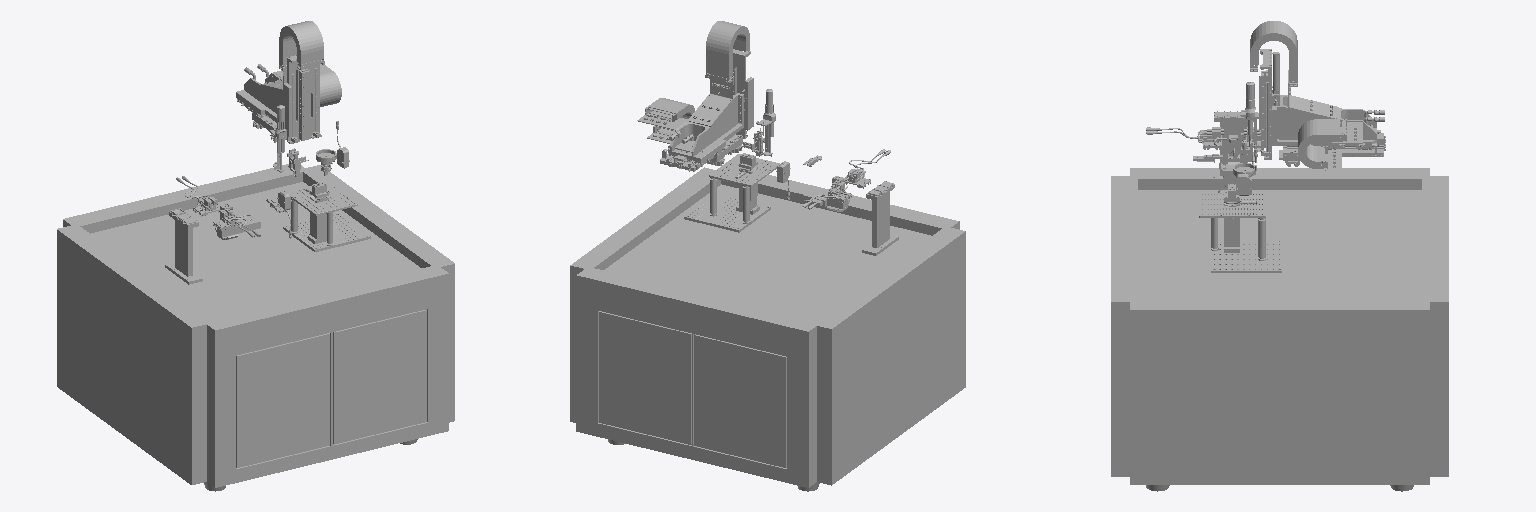
--- Render facts (derived) ---
The picture shows the robot from 3 angles, left to right: view 1: azimuth 30°, elevation 25°; view 2: azimuth 150°, elevation 25°; view 3: azimuth 270°, elevation 25°; orthographic projection.
Robot: BAUGRUPPE_PM_ROBOT_Export_22052024 — 42 links, 41 joints (5 revolute, 12 prismatic, 24 fixed); root link base_link_Empthy; default pose: all joints at 0.
Visible links, largest first — view 1: housing, Y_Axis, Gonio_Base_Right, Test_Station, Smarpod_Station, X_Axis, 2K_Dispenser_Cartridge; view 2: housing, Y_Axis, X_Axis, Gonio_Base_Right, Test_Station, Smarpod_Station, 2K_Dispenser_Cartridge; view 3: housing, Y_Axis, X_Axis, Gonio_Base_Right, Smarpod_Station, Test_Station, 2K_Dispenser_Cartridge.
Link boxes in pixels (x1,y1,x2,y2): housing: (57, 164, 454, 491); Y_Axis: (236, 21, 324, 143); Gonio_Base_Right: (284, 212, 368, 250); Test_Station: (165, 208, 202, 284); Smarpod_Station: (283, 182, 370, 251); X_Axis: (237, 64, 341, 141); 2K_Dispenser_Cartridge: (270, 105, 286, 172); housing: (570, 167, 965, 491); Y_Axis: (637, 21, 753, 163); X_Axis: (645, 98, 742, 171); Gonio_Base_Right: (685, 183, 769, 231); Test_Station: (862, 181, 898, 255); Smarpod_Station: (684, 154, 779, 232); 2K_Dispenser_Cartridge: (756, 89, 775, 156); housing: (1111, 168, 1448, 491); Y_Axis: (1250, 21, 1384, 159); X_Axis: (1279, 119, 1385, 170); Gonio_Base_Right: (1211, 218, 1281, 272); Smarpod_Station: (1199, 193, 1281, 272); Test_Station: (1208, 110, 1259, 181); 2K_Dispenser_Cartridge: (1245, 82, 1260, 154).
Bounding box of the posed robot: 1.42 × 1.42 × 2.01 m (x, y, z).
Meshes: 42 distinct files referenced, 26 mesh visuals loaded (26 binary STL); not drawn: 16 (reference not matched to a file when rendering).

The robot description file, URDF, robot "BAUGRUPPE_PM_ROBOT_Export_22052024":
<?xml version="1.0" encoding="utf-8"?>
<!-- This URDF was automatically created by SolidWorks to URDF Exporter! Originally created by Stephen Brawner ([email redacted]) 
     Commit Version: 1.6.0-1-g15f4949  Build Version: 1.6.7594.29634
     For more information, please see http://wiki.ros.org/sw_urdf_exporter -->
<robot
  name="BAUGRUPPE_PM_ROBOT_Export_22052024">
  <link
    name="base_link_Empthy">
    <inertial>
      <origin
        xyz="0.6 0.6 0.496399367652785"
        rpy="0 0 0" />
      <mass
        value="1546.94483599147" />
      <inertia
        ixx="334.148986426101"
        ixy="-4.08511129788091E-15"
        ixz="1.15841096841426E-14"
        iyy="334.316274376101"
        iyz="-1.54434441905942E-14"
        izz="513.371732356987" />
    </inertial>
    <visual>
      <origin
        xyz="0 0 0"
        rpy="0 0 0" />
      <geometry>
        <mesh
          filename="package://meshes/base_link_Empthy.STL" />
      </geometry>
      <material
        name="">
        <color
          rgba="0.752941176470588 0.752941176470588 0.752941176470588 1" />
      </material>
    </visual>
    <collision>
      <origin
        xyz="0 0 0"
        rpy="0 0 0" />
      <geometry>
        <mesh
          filename="package://meshes/base_link_Empthy.STL" />
      </geometry>
    </collision>
  </link>
  <link
    name="pm_robot_base_link">
    <inertial>
      <origin
        xyz="0.600186355261373 0.60024822812755 -0.0500803495201262"
        rpy="0 0 0" />
      <mass
        value="143.433412382625" />
      <inertia
        ixx="17.331308476166"
        ixy="-0.000173857700061694"
        ixz="-0.000103303605770371"
        iyy="17.3263788236509"
        iyz="-0.00227792943650154"
        izz="34.418988396052" />
    </inertial>
    <visual>
      <origin
        xyz="0 0 0"
        rpy="0 0 0" />
      <geometry>
        <mesh
          filename="package://meshes/pm_robot_base_link.STL" />
      </geometry>
      <material
        name="">
        <color
          rgba="1 1 1 1" />
      </material>
    </visual>
    <collision>
      <origin
        xyz="0 0 0"
        rpy="0 0 0" />
      <geometry>
        <mesh
          filename="package://meshes/pm_robot_base_link.STL" />
      </geometry>
    </collision>
  </link>
  <joint
    name="pm_robot_base_link_joint"
    type="fixed">
    <origin
      xyz="0 0 0.971"
      rpy="0 0 0" />
    <parent
      link="base_link_Empthy" />
    <child
      link="pm_robot_base_link" />
    <axis
      xyz="0 0 0" />
  </joint>
  <link
    name="Test_Station">
    <inertial>
      <origin
        xyz="0.0250000000000002 0.0791274046351472 -0.154851137332961"
        rpy="0 0 0" />
      <mass
        value="1.39099524679326" />
      <inertia
        ixx="0.00780193904512035"
        ixy="-2.61716562579906E-14"
        ixz="-5.0582055952635E-20"
        iyy="0.00547600691976027"
        iyz="9.87499782606784E-10"
        izz="0.00281708795214926" />
    </inertial>
    <visual>
      <origin
        xyz="0 0 0"
        rpy="0 0 0" />
      <geometry>
        <mesh
          filename="package://meshes/Test_Station.STL" />
      </geometry>
      <material
        name="">
        <color
          rgba="0.752941176470588 0.752941176470588 0.752941176470588 1" />
      </material>
    </visual>
    <collision>
      <origin
        xyz="0 0 0"
        rpy="0 0 0" />
      <geometry>
        <mesh
          filename="package://meshes/Test_Station.STL" />
      </geometry>
    </collision>
  </link>
  <joint
    name="Test_Station_Joint"
    type="fixed">
    <origin
      xyz="0.0750000000000028 0.326504999999999 0.298"
      rpy="0 0 0" />
    <parent
      link="pm_robot_base_link" />
    <child
      link="Test_Station" />
    <axis
      xyz="0 0 0" />
  </joint>
  <link
    name="axis_base">
    <inertial>
      <origin
        xyz="0.396214619486537 0.105202066908917 0.307911806876713"
        rpy="0 0 0" />
      <mass
        value="43.6114043093315" />
      <inertia
        ixx="0.364953980200803"
        ixy="-0.000379115704670562"
        ixz="0.00337088428559591"
        iyy="2.29090660447954"
        iyz="0.000705386918357222"
        izz="2.23412206059981" />
    </inertial>
    <visual>
      <origin
        xyz="0 0 0"
        rpy="0 0 0" />
      <geometry>
        <mesh
          filename="package://meshes/axis_base.STL" />
      </geometry>
      <material
        name="">
        <color
          rgba="0.752941176470588 0.752941176470588 0.752941176470588 1" />
      </material>
    </visual>
    <collision>
      <origin
        xyz="0 0 0"
        rpy="0 0 0" />
      <geometry>
        <mesh
          filename="package://meshes/axis_base.STL" />
      </geometry>
    </collision>
  </link>
  <joint
    name="axis_base_joint"
    type="fixed">
    <origin
      xyz="0.08001 0.632 1.000000000001E-05"
      rpy="0 0 0" />
    <parent
      link="pm_robot_base_link" />
    <child
      link="axis_base" />
    <axis
      xyz="0 0 0" />
  </joint>
  <link
    name="X_Axis">
    <inertial>
      <origin
        xyz="0.119923251131808 0.0439594768571969 0.0277110106733242"
        rpy="0 0 0" />
      <mass
        value="11.0253018809426" />
      <inertia
        ixx="0.0864564443546383"
        ixy="-0.00201586475426314"
        ixz="-1.7718229513995E-05"
        iyy="0.024186781341012"
        iyz="-0.000558208245719287"
        izz="0.107108379954593" />
    </inertial>
    <visual>
      <origin
        xyz="0 0 0"
        rpy="0 0 0" />
      <geometry>
        <mesh
          filename="package://meshes/X_Axis.STL" />
      </geometry>
      <material
        name="">
        <color
          rgba="0.752941176470588 0.752941176470588 0.752941176470588 1" />
      </material>
    </visual>
    <collision>
      <origin
        xyz="0 0 0"
        rpy="0 0 0" />
      <geometry>
        <mesh
          filename="package://meshes/X_Axis.STL" />
      </geometry>
    </collision>
  </link>
  <joint
    name="X_Axis_Joint"
    type="prismatic">
    <origin
      xyz="0.646989999999999 0.11775 0.47499"
      rpy="0 0 0" />
    <parent
      link="axis_base" />
    <child
      link="X_Axis" />
    <axis
      xyz="1 0 0" />
    <limit
      lower="0"
      upper="0"
      effort="0"
      velocity="0" />
  </joint>
  <link
    name="Y_Axis">
    <inertial>
      <origin
        xyz="-0.00328476376224018 -0.314759192524917 0.0892329368097425"
        rpy="0 0 0" />
      <mass
        value="17.7005522203093" />
      <inertia
        ixx="0.213023496908866"
        ixy="-3.19712163262089E-05"
        ixz="-0.000439520785336106"
        iyy="0.117071846421266"
        iyz="0.0182349873316842"
        izz="0.158296683816451" />
    </inertial>
    <visual>
      <origin
        xyz="0 0 0"
        rpy="0 0 0" />
      <geometry>
        <mesh
          filename="package://meshes/Y_Axis.STL" />
      </geometry>
      <material
        name="">
        <color
          rgba="0.752941176470588 0.752941176470588 0.752941176470588 1" />
      </material>
    </visual>
    <collision>
      <origin
        xyz="0 0 0"
        rpy="0 0 0" />
      <geometry>
        <mesh
          filename="package://meshes/Y_Axis.STL" />
      </geometry>
    </collision>
  </link>
  <joint
    name="Y_Axis_Joint"
    type="prismatic">
    <origin
      xyz="0.108649999999999 0.25835 0.0652500000000019"
      rpy="0 0 0" />
    <parent
      link="X_Axis" />
    <child
      link="Y_Axis" />
    <axis
      xyz="0 1 0" />
    <limit
      lower="0"
      upper="0"
      effort="0"
      velocity="0" />
  </joint>
  <link
    name="Z_Axis">
    <inertial>
      <origin
        xyz="0.00419028515411224 -0.00127922136513592 -0.265294431377288"
        rpy="0 0 0" />
      <mass
        value="7.68339210626808" />
      <inertia
        ixx="0.046084126807637"
        ixy="-3.90611787904411E-05"
        ixz="-0.000616281374834901"
        iyy="0.0595450411402109"
        iyz="-0.000225506002045346"
        izz="0.0163501292652828" />
    </inertial>
    <visual>
      <origin
        xyz="0 0 0"
        rpy="0 0 0" />
      <geometry>
        <mesh
          filename="package://meshes/Z_Axis.STL" />
      </geometry>
      <material
        name="">
        <color
          rgba="0.752941176470588 0.752941176470588 0.752941176470588 1" />
      </material>
    </visual>
    <collision>
      <origin
        xyz="0 0 0"
        rpy="0 0 0" />
      <geometry>
        <mesh
          filename="package://meshes/Z_Axis.STL" />
      </geometry>
    </collision>
  </link>
  <joint
    name="Z_Axis_Joint"
    type="prismatic">
    <origin
      xyz="-0.00364999999999993 -0.499 0.280250000000002"
      rpy="0 0 0" />
    <parent
      link="Y_Axis" />
    <child
      link="Z_Axis" />
    <axis
      xyz="0 0 -1" />
    <limit
      lower="0"
      upper="0"
      effort="0"
      velocity="0" />
  </joint>
  <link
    name="Gripper_Rot_Plate">
    <inertial>
      <origin
        xyz="-1.74281094778017E-07 2.03483659866333E-07 0.00907792340584196"
        rpy="0 0 0" />
      <mass
        value="0.110297257842221" />
      <inertia
        ixx="8.79759467929713E-05"
        ixy="1.906512099598E-10"
        ixz="1.25536613313172E-10"
        iyy="8.79764882626529E-05"
        iyz="-1.50065581916689E-10"
        izz="0.000165659870326762" />
    </inertial>
    <visual>
      <origin
        xyz="0 0 0"
        rpy="0 0 0" />
      <geometry>
        <mesh
          filename="package://meshes/Gripper_Rot_Plate.STL" />
      </geometry>
      <material
        name="">
        <color
          rgba="0.752941176470588 0.752941176470588 0.752941176470588 1" />
      </material>
    </visual>
    <collision>
      <origin
        xyz="0 0 0"
        rpy="0 0 0" />
      <geometry>
        <mesh
          filename="package://meshes/Gripper_Rot_Plate.STL" />
      </geometry>
    </collision>
  </link>
  <joint
    name="Gripper_Rot_Plate_Joint"
    type="revolute">
    <origin
      xyz="0.0600000000000008 -0.0579999999999999 -0.427500000000002"
      rpy="0 0 0" />
    <parent
      link="Z_Axis" />
    <child
      link="Gripper_Rot_Plate" />
    <axis
      xyz="0 0 1" />
    <limit
      lower="0"
      upper="0"
      effort="0"
      velocity="0" />
  </joint>
  <link
    name="t_axis_tool">
    <inertial>
      <origin
        xyz="7.72851316210854E-06 8.27901917614948E-05 -0.0298996352002383"
        rpy="0 0 0" />
      <mass
        value="0.118189852587645" />
      <inertia
        ixx="1.8760185808887E-05"
        ixy="-4.54748032729686E-08"
        ixz="6.00877448975306E-10"
        iyy="1.57422730580701E-05"
        iyz="2.35117594845364E-09"
        izz="3.18334116837837E-05" />
    </inertial>
    <visual>
      <origin
        xyz="0 0 0"
        rpy="0 0 0" />
      <geometry>
        <mesh
          filename="package://meshes/t_axis_tool.STL" />
      </geometry>
      <material
        name="">
        <color
          rgba="0.752941176470588 0.752941176470588 0.752941176470588 1" />
      </material>
    </visual>
    <collision>
      <origin
        xyz="0 0 0"
        rpy="0 0 0" />
      <geometry>
        <mesh
          filename="package://meshes/t_axis_tool.STL" />
      </geometry>
    </collision>
  </link>
  <joint
    name="t_axis_tool_base"
    type="fixed">
    <origin
      xyz="0 0 0"
      rpy="0 0 0" />
    <parent
      link="Gripper_Rot_Plate" />
    <child
      link="t_axis_tool" />
    <axis
      xyz="0 0 0" />
  </joint>
  <link
    name="tool_TCP_joint">
    <inertial>
      <origin
        xyz="7.72851316810375E-06 -8.27901917496154E-05 -0.0155203647997646"
        rpy="0 0 0" />
      <mass
        value="0.118189852587645" />
      <inertia
        ixx="1.8760185808887E-05"
        ixy="4.54748032729685E-08"
        ixz="-6.00877448975292E-10"
        iyy="1.57422730580701E-05"
        iyz="2.35117594845366E-09"
        izz="3.18334116837837E-05" />
    </inertial>
    <visual>
      <origin
        xyz="0 0 0"
        rpy="0 0 0" />
      <geometry>
        <mesh
          filename="package://meshes/tool_TCP_joint.STL" />
      </geometry>
      <material
        name="">
        <color
          rgba="0.752941176470588 0.752941176470588 0.752941176470588 1" />
      </material>
    </visual>
    <collision>
      <origin
        xyz="0 0 0"
        rpy="0 0 0" />
      <geometry>
        <mesh
          filename="package://meshes/tool_TCP_joint.STL" />
      </geometry>
    </collision>
  </link>
  <joint
    name="tool_TCP_joint"
    type="fixed">
    <origin
      xyz="0 0 -0.0454200000000029"
      rpy="3.14159265358979 0 0" />
    <parent
      link="Gripper_Rot_Plate" />
    <child
      link="tool_TCP_joint" />
    <axis
      xyz="0 0 0" />
  </joint>
  <link
    name="1K_Dispenser_Flap">
    <inertial>
      <origin
        xyz="-0.0528803854403627 -0.0205102449592098 -0.0129354600947458"
        rpy="0 0 0" />
      <mass
        value="0.0898950727177874" />
      <inertia
        ixx="2.95064519140259E-05"
        ixy="4.21874099690977E-07"
        ixz="1.87928470948077E-07"
        iyy="2.60445367838748E-05"
        iyz="7.76714372906351E-08"
        izz="2.00651851070914E-05" />
    </inertial>
    <visual>
      <origin
        xyz="0 0 0"
        rpy="0 0 0" />
      <geometry>
        <mesh
          filename="package://meshes/1K_Dispenser_Flap.STL" />
      </geometry>
      <material
        name="">
        <color
          rgba="0.752941176470588 0.752941176470588 0.752941176470588 1" />
      </material>
    </visual>
    <collision>
      <origin
        xyz="0 0 0"
        rpy="0 0 0" />
      <geometry>
        <mesh
          filename="package://meshes/1K_Dispenser_Flap.STL" />
      </geometry>
    </collision>
  </link>
  <joint
    name="1K_Dispenser_Flap_Joint"
    type="prismatic">
    <origin
      xyz="-0.0315000000000003 -0.02479 -0.424"
      rpy="0 0 0" />
    <parent
      link="Z_Axis" />
    <child
      link="1K_Dispenser_Flap" />
    <axis
      xyz="-1 0 0" />
    <limit
      lower="0"
      upper="0"
      effort="0"
      velocity="0" />
  </joint>
  <link
    name="1K_Dispenser">
    <inertial>
      <origin
        xyz="-0.00291818033157643 -0.0158334552810113 -0.0484880242877683"
        rpy="0 0 0" />
      <mass
        value="0.0738617158315613" />
      <inertia
        ixx="3.4329278732223E-05"
        ixy="-1.91909053103246E-07"
        ixz="-5.62660751837308E-08"
        iyy="3.40932388763581E-05"
        iyz="5.66364368564949E-07"
        izz="1.14889763852285E-05" />
    </inertial>
    <visual>
      <origin
        xyz="0 0 0"
        rpy="0 0 0" />
      <geometry>
        <mesh
          filename="package://meshes/1K_Dispenser.STL" />
      </geometry>
      <material
        name="">
        <color
          rgba="0.752941176470588 0.752941176470588 0.752941176470588 1" />
      </material>
    </visual>
    <collision>
      <origin
        xyz="0 0 0"
        rpy="0 0 0" />
      <geometry>
        <mesh
          filename="package://meshes/1K_Dispenser.STL" />
      </geometry>
    </collision>
  </link>
  <joint
    name="1K_Dispenser_Joint"
    type="prismatic">
    <origin
      xyz="-0.104000000000004 -0.0261999999999946 -0.354500000000001"
      rpy="0 0 0" />
    <parent
      link="Z_Axis" />
    <child
      link="1K_Dispenser" />
    <axis
      xyz="0 0 1" />
    <limit
      lower="0"
      upper="0"
      effort="0"
      velocity="0" />
  </joint>
  <link
    name="2K_Dispenser_Cartridge">
    <inertial>
      <origin
        xyz="0.000283820034037041 -0.0359476128067617 0.155394274852362"
        rpy="0 0 0" />
      <mass
        value="0.414568311761336" />
      <inertia
        ixx="0.00156211922888725"
        ixy="-4.41612447012715E-06"
        ixz="-9.93222982119926E-08"
        iyy="0.00154774025733087"
        iyz="-1.49654417442964E-06"
        izz="0.000122629937957289" />
    </inertial>
    <visual>
      <origin
        xyz="0 0 0"
        rpy="0 0 0" />
      <geometry>
        <mesh
          filename="package://meshes/2K_Dispenser_Cartridge.STL" />
      </geometry>
      <material
        name="">
        <color
          rgba="0.752941176470588 0.752941176470588 0.752941176470588 1" />
      </material>
    </visual>
    <collision>
      <origin
        xyz="0 0 0"
        rpy="0 0 0" />
      <geometry>
        <mesh
          filename="package://meshes/2K_Dispenser_Cartridge.STL" />
      </geometry>
    </collision>
  </link>
  <joint
    name="2K_Dispenser_Cartridge_Joint"
    type="prismatic">
    <origin
      xyz="-0.168999999999997 0.0117599999999983 -0.424000000000003"
      rpy="0 0 0" />
    <parent
      link="Z_Axis" />
    <child
      link="2K_Dispenser_Cartridge" />
    <axis
      xyz="0 0 -1" />
    <limit
      lower="0"
      upper="0"
      effort="0"
      velocity="0" />
  </joint>
  <link
    name="Laser_Kopf_TCP">
    <inertial>
      <origin
        xyz="0.00143426339843722 0.014826109459576 0.0588947661972293"
        rpy="0 0 0" />
      <mass
        value="0.187317990001587" />
      <inertia
        ixx="0.000183845185505213"
        ixy="5.39428415612598E-09"
        ixz="-6.26322613121407E-07"
        iyy="0.000137322203175864"
        iyz="6.13086484550094E-07"
        izz="7.68745593927865E-05" />
    </inertial>
    <visual>
      <origin
        xyz="0 0 0"
        rpy="0 0 0" />
      <geometry>
        <mesh
          filename="package://meshes/Laser_Kopf_TCP.STL" />
      </geometry>
      <material
        name="">
        <color
          rgba="0.752941176470588 0.752941176470588 0.752941176470588 1" />
      </material>
    </visual>
    <collision>
      <origin
        xyz="0 0 0"
        rpy="0 0 0" />
      <geometry>
        <mesh
          filename="package://meshes/Laser_Kopf_TCP.STL" />
      </geometry>
    </collision>
  </link>
  <joint
    name="Laser_Kopf_TCP_Joint"
    type="fixed">
    <origin
      xyz="0.147498952947694 -0.0739999732334102 -0.495500146516092"
      rpy="0 0 0" />
    <parent
      link="Z_Axis" />
    <child
      link="Laser_Kopf_TCP" />
    <axis
      xyz="0 0 0" />
  </joint>
  <link
    name="Cam1_Toolhead_TCP">
    <inertial>
      <origin
        xyz="0.0010681009671808 0.00806463599803703 0.233176385306992"
        rpy="0 0 0" />
      <mass
        value="0.855340814833738" />
      <inertia
        ixx="0.000689729297015143"
        ixy="-6.9216873287427E-07"
        ixz="-7.74089441891755E-06"
        iyy="0.000703163751646939"
        iyz="-2.35794408753471E-05"
        izz="0.00015399209635262" />
    </inertial>
    <visual>
      <origin
        xyz="0 0 0"
        rpy="0 0 0" />
      <geometry>
        <mesh
          filename="package://meshes/Cam1_Toolhead_TCP.STL" />
      </geometry>
      <material
        name="">
        <color
          rgba="0.752941176470588 0.752941176470588 0.752941176470588 1" />
      </material>
    </visual>
    <collision>
      <origin
        xyz="0 0 0"
        rpy="0 0 0" />
      <geometry>
        <mesh
          filename="package://meshes/Cam1_Toolhead_TCP.STL" />
      </geometry>
    </collision>
  </link>
  <joint
    name="Cam1_Toolhead_TCP_Joint"
    type="fixed">
    <origin
      xyz="-0.0320000000000011 -0.0579999999999999 -0.55688529255067"
      rpy="0 0 0" />
    <parent
      link="Z_Axis" />
    <child
      link="Cam1_Toolhead_TCP" />
    <axis
      xyz="0 0 0" />
  </joint>
  <link
    name="Gonio_Base_Right">
    <inertial>
      <origin
        xyz="0.0750000000000002 0.0875000000000001 0.0967750321735945"
        rpy="0 0 0" />
      <mass
        value="0.735149712395275" />
      <inertia
        ixx="0.00216092025189497"
        ixy="-3.65463885116912E-20"
        ixz="-4.81903243284364E-19"
        iyy="0.00218184071743384"
        iyz="5.00814909270512E-20"
        izz="0.000537834506363752" />
    </inertial>
    <visual>
      <origin
        xyz="0 0 0"
        rpy="0 0 0" />
      <geometry>
        <mesh
          filename="package://meshes/Gonio_Base_Right.STL" />
      </geometry>
      <material
        name="">
        <color
          rgba="0.752941176470588 0.752941176470588 0.752941176470588 1" />
      </material>
    </visual>
    <collision>
      <origin
        xyz="0 0 0"
        rpy="0 0 0" />
      <geometry>
        <mesh
          filename="package://meshes/Gonio_Base_Right.STL" />
      </geometry>
    </collision>
  </link>
  <joint
    name="Gonio_Base_Right_joint"
    type="fixed">
    <origin
      xyz="0.750000000000003 0.31 0"
      rpy="0 0 0" />
    <parent
      link="pm_robot_base_link" />
    <child
      link="Gonio_Base_Right" />
    <axis
      xyz="0 0 0" />
  </joint>
  <link
    name="Gonio_Right_Stage_1">
    <inertial>
      <origin
        xyz="0.0473956245440273 0.0326775285629692 0.00802879322662531"
        rpy="0 0 0" />
      <mass
        value="0.0706349432835732" />
      <inertia
        ixx="1.8004068123271E-05"
        ixy="7.72258833099301E-11"
        ixz="1.39266767162876E-07"
        iyy="3.36962706733938E-05"
        iyz="-1.91981813997517E-11"
        izz="4.86217530226206E-05" />
    </inertial>
    <visual>
      <origin
        xyz="0 0 0"
        rpy="0 0 0" />
      <geometry>
        <mesh
          filename="package://meshes/Gonio_Right_Stage_1.STL" />
      </geometry>
      <material
        name="">
        <color
          rgba="0.752941176470588 0.752941176470588 0.752941176470588 1" />
      </material>
    </visual>
    <collision>
      <origin
        xyz="0 0 0"
        rpy="0 0 0" />
      <geometry>
        <mesh
          filename="package://meshes/Gonio_Right_Stage_1.STL" />
      </geometry>
    </collision>
  </link>
  <joint
    name="Gonio_Right_Stage_1_Joint"
    type="fixed">
    <origin
      xyz="0.0425000000000001 0.055 0.1847"
      rpy="0 0 0" />
    <parent
      link="Gonio_Base_Right" />
    <child
      link="Gonio_Right_Stage_1" />
    <axis
      xyz="0 0 0" />
  </joint>
  <link
    name="Gonio_Right_Stage_1_Upper">
    <inertial>
      <origin
        xyz="-1.23867349488549E-07 0.00776563461425855 -0.0788347959618215"
        rpy="0 0 0" />
      <mass
        value="0.135485828183631" />
      <inertia
        ixx="6.29207513367842E-05"
        ixy="-8.2016542866997E-11"
        ixz="3.32779841698557E-11"
        iyy="4.16210408086872E-05"
        iyz="1.10769519244758E-07"
        izz="9.7190851412307E-05" />
    </inertial>
    <visual>
      <origin
        xyz="0 0 0"
        rpy="0 0 0" />
      <geometry>
        <mesh
          filename="package://meshes/Gonio_Right_Stage_1_Upper.STL" />
      </geometry>
      <material
        name="">
        <color
          rgba="0.752941176470588 0.752941176470588 0.752941176470588 1" />
      </material>
    </visual>
    <collision>
      <origin
        xyz="0 0 0"
        rpy="0 0 0" />
      <geometry>
        <mesh
          filename="package://meshes/Gonio_Right_Stage_1_Upper.STL" />
      </geometry>
    </collision>
  </link>
  <joint
    name="Gonio_Right_Stage_1_Upper_Joint"
    type="revolute">
    <origin
      xyz="0.0324999999999993 0.0326774999999999 0.11"
      rpy="0 0 0" />
    <parent
      link="Gonio_Right_Stage_1" />
    <child
      link="Gonio_Right_Stage_1_Upper" />
    <axis
      xyz="0 -1 0" />
    <limit
      lower="0"
      upper="0"
      effort="0"
      velocity="0" />
  </joint>
  <link
    name="Gonio_Right_Stage_2_Upper">
    <inertial>
      <origin
        xyz="8.11599898398185E-10 -7.70700947505532E-10 -0.0578599597513433"
        rpy="0 0 0" />
      <mass
        value="0.0546397543064688" />
      <inertia
        ixx="1.83573872586574E-05"
        ixy="1.02198811419138E-11"
        ixz="3.0349862411117E-13"
        iyy="2.38958828661973E-05"
        iyz="8.61195754979722E-13"
        izz="3.93608749922961E-05" />
    </inertial>
    <visual>
      <origin
        xyz="0 0 0"
        rpy="0 0 0" />
      <geometry>
        <mesh
          filename="package://meshes/Gonio_Right_Stage_2_Upper.STL" />
      </geometry>
      <material
        name="">
        <color
          rgba="0.752941176470588 0.752941176470588 0.752941176470588 1" />
      </material>
    </visual>
    <collision>
      <origin
        xyz="0 0 0"
        rpy="0 0 0" />
      <geometry>
        <mesh
          filename="package://meshes/Gonio_Right_Stage_2_Upper.STL" />
      </geometry>
    </collision>
  </link>
  <joint
    name="Gonio_Right_Stage_2_Upper_Joint"
    type="revolute">
    <origin
      xyz="0 0 0"
      rpy="0 0 0" />
    <parent
      link="Gonio_Right_Stage_1_Upper" />
    <child
      link="Gonio_Right_Stage_2_Upper" />
    <axis
      xyz="-1 0 0" />
    <limit
      lower="0"
      upper="0"
      effort="0"
      velocity="0" />
  </joint>
  <link
    name="Gonio_Right_Chuck">
    <inertial>
      <origin
        xyz="-4.91275391851786E-05 -7.08920350384057E-06 0.021656484133689"
        rpy="0 0 0" />
      <mass
        value="0.133934804202608" />
      <inertia
        ixx="3.05433990945277E-05"
        ixy="-2.55507616625481E-10"
        ixz="-1.74866993077548E-08"
        iyy="4.80787890381723E-05"
        iyz="2.24246430305826E-09"
        izz="7.18729232269431E-05" />
    </inertial>
    <visual>
      <origin
        xyz="0 0 0"
        rpy="0 0 0" />
      <geometry>
        <mesh
          filename="package://meshes/Gonio_Right_Chuck.STL" />
      </geometry>
      <material
        name="">
        <color
          rgba="0.752941176470588 0.752941176470588 0.752941176470588 1" />
      </material>
    </visual>
    <collision>
      <origin
        xyz="0 0 0"
        rpy="0 0 0" />
      <geometry>
        <mesh
          filename="package://meshes/Gonio_Right_Chuck.STL" />
      </geometry>
    </collision>
  </link>
  <joint
    name="Gonio_Right_Chuck_Joint"
    type="fixed">
    <origin
      xyz="0 0 -0.0499999999999999"
      rpy="0 0 0" />
    <parent
      link="Gonio_Right_Stage_2_Upper" />
    <child
      link="Gonio_Right_Chuck" />
    <axis
      xyz="0 0 0" />
  </joint>
  <link
    name="Gonio_Right_Part_Base">
    <inertial>
      <origin
        xyz="-4.91275391850676E-05 -7.08920350372955E-06 0.0216564841336891"
        rpy="0 0 0" />
      <mass
        value="0.133934804202608" />
      <inertia
        ixx="3.05433990945277E-05"
        ixy="-2.55507616625584E-10"
        ixz="-1.74866993077548E-08"
        iyy="4.80787890381723E-05"
        iyz="2.24246430305826E-09"
        izz="7.18729232269431E-05" />
    </inertial>
    <visual>
      <origin
        xyz="0 0 0"
        rpy="0 0 0" />
      <geometry>
        <mesh
          filename="package://meshes/Gonio_Right_Part_Base.STL" />
      </geometry>
      <material
        name="">
        <color
          rgba="0.752941176470588 0.752941176470588 0.752941176470588 1" />
      </material>
    </visual>
    <collision>
      <origin
        xyz="0 0 0"
        rpy="0 0 0" />
      <geometry>
        <mesh
          filename="package://meshes/Gonio_Right_Part_Base.STL" />
      </geometry>
    </collision>
  </link>
  <joint
    name="Gonio_Right_Part_Base_Joint"
    type="fixed">
    <origin
      xyz="0 0 -0.0499999999999999"
      rpy="0 0 0" />
    <parent
      link="Gonio_Right_Stage_2_Upper" />
    <child
      link="Gonio_Right_Part_Base" />
    <axis
      xyz="0 0 0" />
  </joint>
  <link
    name="Camera_Station">
    <inertial>
      <origin
        xyz="0.0877359139508618 0.197312852292293 0.14668502259811"
        rpy="0 0 0" />
      <mass
        value="2.94416261598261" />
      <inertia
        ixx="0.0183573847308077"
        ixy="1.235430193683E-05"
        ixz="-2.76870749814019E-06"
        iyy="0.00445052300434725"
        iyz="5.30139476529274E-05"
        izz="0.0194492352061208" />
    </inertial>
    <visual>
      <origin
        xyz="0 0 0"
        rpy="0 0 0" />
      <geometry>
        <mesh
          filename="package://meshes/Camera_Station.STL" />
      </geometry>
      <material
        name="">
        <color
          rgba="0.752941176470588 0.752941176470588 0.752941176470588 1" />
      </material>
    </visual>
    <collision>
      <origin
        xyz="0 0 0"
        rpy="0 0 0" />
      <geometry>
        <mesh
          filename="package://meshes/Camera_Station.STL" />
      </geometry>
    </collision>
  </link>
  <joint
    name="Camera_Station_Joint"
    type="fixed">
    <origin
      xyz="0.452500000000001 0.312499999999997 0"
      rpy="0 0 0" />
    <parent
      link="pm_robot_base_link" />
    <child
      link="Camera_Station" />
    <axis
      xyz="0 0 0" />
  </joint>
  <link
    name="Camera_Station_TCP">
    <inertial>
      <origin
        xyz="-0.259764086049134 0.0587128522922907 -0.116929684851225"
        rpy="0 0 0" />
      <mass
        value="2.94416261598261" />
      <inertia
        ixx="0.0183573847308077"
        ixy="1.23543019368299E-05"
        ixz="-2.76870749814019E-06"
        iyy="0.00445052300434725"
        iyz="5.30139476529274E-05"
        izz="0.0194492352061208" />
    </inertial>
    <visual>
      <origin
        xyz="0 0 0"
        rpy="0 0 0" />
      <geometry>
        <mesh
          filename="package://meshes/Camera_Station_TCP.STL" />
      </geometry>
      <material
        name="">
        <color
          rgba="0.752941176470588 0.752941176470588 0.752941176470588 1" />
      </material>
    </visual>
    <collision>
      <origin
        xyz="0 0 0"
        rpy="0 0 0" />
      <geometry>
        <mesh
          filename="package://meshes/Camera_Station_TCP.STL" />
      </geometry>
    </collision>
  </link>
  <joint
    name="Camera_Station_TCP_Joint"
    type="fixed">
    <origin
      xyz="0.347499999999996 0.138600000000003 0.263614707449335"
      rpy="0 0 0" />
    <parent
      link="Camera_Station" />
    <child
      link="Camera_Station_TCP" />
    <axis
      xyz="0 0 0" />
  </joint>
  <link
    name="Camera_Calibration_Platelet">
    <inertial>
      <origin
        xyz="-0.000344499007126631 0.0706122748122424 0.00399515128063066"
        rpy="0 0 0" />
      <mass
        value="0.0334016358510876" />
      <inertia
        ixx="2.05104945364406E-05"
        ixy="-1.61006130053266E-08"
        ixz="-7.42638002033743E-11"
        iyy="2.64967112268826E-06"
        iyz="4.64472618194223E-07"
        izz="2.23824646029018E-05" />
    </inertial>
    <visual>
      <origin
        xyz="0 0 0"
        rpy="0 0 0" />
      <geometry>
        <mesh
          filename="package://meshes/Camera_Calibration_Platelet.STL" />
      </geometry>
      <material
        name="">
        <color
          rgba="0.752941176470588 0.752941176470588 0.752941176470588 1" />
      </material>
    </visual>
    <collision>
      <origin
        xyz="0 0 0"
        rpy="0 0 0" />
      <geometry>
        <mesh
          filename="package://meshes/Camera_Calibration_Platelet.STL" />
      </geometry>
    </collision>
  </link>
  <joint
    name="Camera_Calibration_Platelet_Joint"
    type="prismatic">
    <origin
      xyz="0.08 -0.0815 0.293"
      rpy="0 0 0" />
    <parent
      link="Camera_Station" />
    <child
      link="Camera_Calibration_Platelet" />
    <axis
      xyz="0 -1 0" />
    <limit
      lower="0"
      upper="0"
      effort="0"
      velocity="0" />
  </joint>
  <link
    name="Calibration_Qube">
    <inertial>
      <origin
        xyz="1.11022302462516E-16 0 -0.0106326150125715"
        rpy="0 0 0" />
      <mass
        value="0.000794185706127072" />
      <inertia
        ixx="2.50127200576213E-08"
        ixy="2.3315587018943E-25"
        ixz="1.31298023297788E-25"
        iyy="2.50127200576213E-08"
        iyz="-5.94581842584253E-26"
        izz="6.20234296219802E-09" />
    </inertial>
    <visual>
      <origin
        xyz="0 0 0"
        rpy="0 0 0" />
      <geometry>
        <mesh
          filename="package://meshes/Calibration_Qube.STL" />
      </geometry>
      <material
        name="">
        <color
          rgba="0.752941176470588 0.752941176470588 0.752941176470588 1" />
      </material>
    </visual>
    <collision>
      <origin
        xyz="0 0 0"
        rpy="0 0 0" />
      <geometry>
        <mesh
          filename="package://meshes/Calibration_Qube.STL" />
      </geometry>
    </collision>
  </link>
  <joint
    name="Calibration_Qube_Joint"
    type="prismatic">
    <origin
      xyz="0.154 0.108 0.305"
      rpy="0 0 0" />
    <parent
      link="Camera_Station" />
    <child
      link="Calibration_Qube" />
    <axis
      xyz="0 0 1" />
    <limit
      lower="0"
      upper="0"
      effort="0"
      velocity="0" />
  </joint>
  <link
    name="Station_Laser_Bottom_TCP">
    <inertial>
      <origin
        xyz="0.00143426339843244 -0.0148261094595761 -0.0588947661972288"
        rpy="0 0 0" />
      <mass
        value="0.187317990001588" />
      <inertia
        ixx="0.000183845185505215"
        ixy="-5.39428415584752E-09"
        ixz="6.26322613112915E-07"
        iyy="0.000137322203175865"
        iyz="6.13086484549823E-07"
        izz="7.68745593927869E-05" />
    </inertial>
    <visual>
      <origin
        xyz="0 0 0"
        rpy="0 0 0" />
      <geometry>
        <mesh
          filename="package://meshes/Station_Laser_Bottom_TCP.STL" />
      </geometry>
      <material
        name="">
        <color
          rgba="0.752941176470588 0.752941176470588 0.752941176470588 1" />
      </material>
    </visual>
    <collision>
      <origin
        xyz="0 0 0"
        rpy="0 0 0" />
      <geometry>
        <mesh
          filename="package://meshes/Station_Laser_Bottom_TCP.STL" />
      </geometry>
    </collision>
  </link>
  <joint
    name="Station_Laser_Bottom_TCP_Joint"
    type="fixed">
    <origin
      xyz="0.181998910097099 0.0939999732334109 0.307500000000001"
      rpy="0 0 0" />
    <parent
      link="Camera_Station" />
    <child
      link="Station_Laser_Bottom_TCP" />
    <axis
      xyz="0 0 0" />
  </joint>
  <link
    name="Gonio_Left_Base">
    <inertial>
      <origin
        xyz="0.177957004101833 0.0965764922861277 0.101037734326773"
        rpy="0 0 0" />
      <mass
        value="4.8504241619117" />
      <inertia
        ixx="0.011513769479899"
        ixy="-3.33565922732044E-05"
        ixz="-1.45496624993124E-06"
        iyy="0.0188696431031707"
        iyz="-2.76188647033955E-05"
        izz="0.0269851735502601" />
    </inertial>
    <visual>
      <origin
        xyz="0 0 0"
        rpy="0 0 0" />
      <geometry>
        <mesh
          filename="package://meshes/Gonio_Left_Base.STL" />
      </geometry>
      <material
        name="">
        <color
          rgba="0.752941176470588 0.752941176470588 0.752941176470588 1" />
      </material>
    </visual>
    <collision>
      <origin
        xyz="0 0 0"
        rpy="0 0 0" />
      <geometry>
        <mesh
          filename="package://meshes/Gonio_Left_Base.STL" />
      </geometry>
    </collision>
  </link>
  <joint
    name="Gonio_Left_Base_Joint"
    type="fixed">
    <origin
      xyz="0.14249999999998 0.295499999999939 0"
      rpy="0 0 0" />
    <parent
      link="pm_robot_base_link" />
    <child
      link="Gonio_Left_Base" />
    <axis
      xyz="0 0 0" />
  </joint>
  <link
    name="UV_Cart_X_Front">
    <inertial>
      <origin
        xyz="0.0726605680173415 -0.0110194244636616 0.0329691480106172"
        rpy="0 0 0" />
      <mass
        value="0.248150665535741" />
      <inertia
        ixx="9.85792511966562E-05"
        ixy="1.43285002680549E-07"
        ixz="3.04997529216346E-07"
        iyy="6.9556900197874E-05"
        iyz="4.98184778709365E-08"
        izz="0.000159574126845402" />
    </inertial>
    <visual>
      <origin
        xyz="0 0 0"
        rpy="0 0 0" />
      <geometry>
        <mesh
          filename="package://meshes/UV_Cart_X_Front.STL" />
      </geometry>
      <material
        name="">
        <color
          rgba="0.752941176470588 0.752941176470588 0.752941176470588 1" />
      </material>
    </visual>
    <collision>
      <origin
        xyz="0 0 0"
        rpy="0 0 0" />
      <geometry>
        <mesh
          filename="package://meshes/UV_Cart_X_Front.STL" />
      </geometry>
    </collision>
  </link>
  <joint
    name="UV_Cart_X_Front_Joint"
    type="prismatic">
    <origin
      xyz="0.0785000000000391 0.0200000000000492 0.234999999999997"
      rpy="0 0 0" />
    <parent
      link="Gonio_Left_Base" />
    <child
      link="UV_Cart_X_Front" />
    <axis
      xyz="1 0 0" />
    <limit
      lower="0"
      upper="0"
      effort="0"
      velocity="0" />
  </joint>
  <link
    name="UV_Cart_Front">
    <inertial>
      <origin
        xyz="0.00149625706477063 0.00485466541438218 0.010590788590885"
        rpy="0 0 0" />
      <mass
        value="0.119915229322348" />
      <inertia
        ixx="8.58688559917158E-05"
        ixy="-9.33412701053312E-06"
        ixz="2.1294722515996E-07"
        iyy="1.98652848189387E-05"
        iyz="9.66953808700651E-07"
        izz="0.00010123498655613" />
    </inertial>
    <visual>
      <origin
        xyz="0 0 0"
        rpy="0 0 0" />
      <geometry>
        <mesh
          filename="package://meshes/UV_Cart_Front.STL" />
      </geometry>
      <material
        name="">
        <color
          rgba="0.752941176470588 0.752941176470588 0.752941176470588 1" />
      </material>
    </visual>
    <collision>
      <origin
        xyz="0 0 0"
        rpy="0 0 0" />
      <geometry>
        <mesh
          filename="package://meshes/UV_Cart_Front.STL" />
      </geometry>
    </collision>
  </link>
  <joint
    name="UV_Cart_Front_Joint"
    type="prismatic">
    <origin
      xyz="0.0649999999999999 -0.0540000000000002 0.0496999999988213"
      rpy="0 0 0" />
    <parent
      link="UV_Cart_X_Front" />
    <child
      link="UV_Cart_Front" />
    <axis
      xyz="0 1 0" />
    <limit
      lower="0"
      upper="0"
      effort="0"
      velocity="0" />
  </joint>
  <link
    name="UV_Cart_X_Back">
    <inertial>
      <origin
        xyz="0.0573394319828895 0.0110194244635146 0.032969148006551"
        rpy="0 0 0" />
      <mass
        value="0.24815066553653" />
      <inertia
        ixx="9.85792511967379E-05"
        ixy="1.43285002822575E-07"
        ixz="-3.04997529135497E-07"
        iyy="6.9556900197983E-05"
        iyz="-4.98184779060403E-08"
        izz="0.000159574126845553" />
    </inertial>
    <visual>
      <origin
        xyz="0 0 0"
        rpy="0 0 0" />
      <geometry>
        <mesh
          filename="package://meshes/UV_Cart_X_Back.STL" />
      </geometry>
      <material
        name="">
        <color
          rgba="0.752941176470588 0.752941176470588 0.752941176470588 1" />
      </material>
    </visual>
    <collision>
      <origin
        xyz="0 0 0"
        rpy="0 0 0" />
      <geometry>
        <mesh
          filename="package://meshes/UV_Cart_X_Back.STL" />
      </geometry>
    </collision>
  </link>
  <joint
    name="UV_Cart_X_Back_Joint"
    type="prismatic">
    <origin
      xyz="0.0785000000000389 0.200000000000049 0.234999999999998"
      rpy="0 0 0" />
    <parent
      link="Gonio_Left_Base" />
    <child
      link="UV_Cart_X_Back" />
    <axis
      xyz="1 0 0" />
    <limit
      lower="0"
      upper="0"
      effort="0"
      velocity="0" />
  </joint>
  <link
    name="UV_Cart_Back">
    <inertial>
      <origin
        xyz="-0.00149625706477069 -0.00485466541438284 0.0105907885908849"
        rpy="0 0 0" />
      <mass
        value="0.119915229322348" />
      <inertia
        ixx="8.58688559917144E-05"
        ixy="-9.33412701053305E-06"
        ixz="-2.12947225160345E-07"
        iyy="1.98652848189388E-05"
        iyz="-9.66953808700749E-07"
        izz="0.000101234986556129" />
    </inertial>
    <visual>
      <origin
        xyz="0 0 0"
        rpy="0 0 0" />
      <geometry>
        <mesh
          filename="package://meshes/UV_Cart_Back.STL" />
      </geometry>
      <material
        name="">
        <color
          rgba="0.752941176470588 0.752941176470588 0.752941176470588 1" />
      </material>
    </visual>
    <collision>
      <origin
        xyz="0 0 0"
        rpy="0 0 0" />
      <geometry>
        <mesh
          filename="package://meshes/UV_Cart_Back.STL" />
      </geometry>
    </collision>
  </link>
  <joint
    name="UV_Cart_Back_Joint"
    type="prismatic">
    <origin
      xyz="0.0649999999999949 0.0539999999999998 0.0496999999948266"
      rpy="0 0 0" />
    <parent
      link="UV_Cart_X_Back" />
    <child
      link="UV_Cart_Back" />
    <axis
      xyz="0 1 0" />
    <limit
      lower="0"
      upper="0"
      effort="0"
      velocity="0" />
  </joint>
  <link
    name="Gonio_Left_Stage_1">
    <inertial>
      <origin
        xyz="0.0597824878967483 0.00877925652714845 -0.0446785627316222"
        rpy="0 0 0" />
      <mass
        value="0.578798857286943" />
      <inertia
        ixx="0.000400478324367351"
        ixy="-0.000129239522587819"
        ixz="7.82346515336287E-07"
        iyy="0.00157904583991977"
        iyz="-5.25968237719784E-06"
        izz="0.00188005175520343" />
    </inertial>
    <visual>
      <origin
        xyz="0 0 0"
        rpy="0 0 0" />
      <geometry>
        <mesh
          filename="package://meshes/Gonio_Left_Stage_1.STL" />
      </geometry>
      <material
        name="">
        <color
          rgba="0.752941176470588 0.752941176470588 0.752941176470588 1" />
      </material>
    </visual>
    <collision>
      <origin
        xyz="0 0 0"
        rpy="0 0 0" />
      <geometry>
        <mesh
          filename="package://meshes/Gonio_Left_Stage_1.STL" />
      </geometry>
    </collision>
  </link>
  <joint
    name="Gonio_Left_Stage_1_Joint"
    type="revolute">
    <origin
      xyz="0.188500000000042 0.110000000000054 0.212499999999997"
      rpy="0 0 0" />
    <parent
      link="Gonio_Left_Base" />
    <child
      link="Gonio_Left_Stage_1" />
    <axis
      xyz="1 0 0" />
    <limit
      lower="0"
      upper="0"
      effort="0"
      velocity="0" />
  </joint>
  <link
    name="Gonio_Left_Stage_2">
    <inertial>
      <origin
        xyz="4.69633332222941E-10 4.44089209850063E-16 -0.0212004572137997"
        rpy="0 0 0" />
      <mass
        value="0.0270626701992899" />
      <inertia
        ixx="6.08758948397043E-06"
        ixy="4.11729582623177E-14"
        ixz="-8.6565880265826E-13"
        iyy="4.36785274885663E-06"
        iyz="-2.52248512889663E-21"
        izz="9.60640029376036E-06" />
    </inertial>
    <visual>
      <origin
        xyz="0 0 0"
        rpy="0 0 0" />
      <geometry>
        <mesh
          filename="package://meshes/Gonio_Left_Stage_2.STL" />
      </geometry>
      <material
        name="">
        <color
          rgba="0.752941176470588 0.752941176470588 0.752941176470588 1" />
      </material>
    </visual>
    <collision>
      <origin
        xyz="0 0 0"
        rpy="0 0 0" />
      <geometry>
        <mesh
          filename="package://meshes/Gonio_Left_Stage_2.STL" />
      </geometry>
    </collision>
  </link>
  <joint
    name="Gonio_Left_Stage_2_Joint"
    type="revolute">
    <origin
      xyz="0 0 0"
      rpy="0 0 0" />
    <parent
      link="Gonio_Left_Stage_1" />
    <child
      link="Gonio_Left_Stage_2" />
    <axis
      xyz="0 -1 0" />
    <limit
      lower="0"
      upper="0"
      effort="0"
      velocity="0" />
  </joint>
  <link
    name="Gonio_Left_Chuck">
    <inertial>
      <origin
        xyz="-0.000517748695069153 0.00473435482735085 0.0506333248330935"
        rpy="0 0 0" />
      <mass
        value="0.11530970264759" />
      <inertia
        ixx="2.48390077396092E-05"
        ixy="-8.88685892494105E-09"
        ixz="-3.69124299391051E-08"
        iyy="3.71154973701588E-05"
        iyz="-3.86161448630447E-07"
        izz="3.3978117134478E-05" />
    </inertial>
    <visual>
      <origin
        xyz="0 0 0"
        rpy="0 0 0" />
      <geometry>
        <mesh
          filename="package://meshes/Gonio_Left_Chuck.STL" />
      </geometry>
      <material
        name="">
        <color
          rgba="0.752941176470588 0.752941176470588 0.752941176470588 1" />
      </material>
    </visual>
    <collision>
      <origin
        xyz="0 0 0"
        rpy="0 0 0" />
      <geometry>
        <mesh
          filename="package://meshes/Gonio_Left_Chuck.STL" />
      </geometry>
    </collision>
  </link>
  <joint
    name="Gonio_Left_Chuck_Joint"
    type="fixed">
    <origin
      xyz="0 0 -0.015"
      rpy="0 0 0" />
    <parent
      link="Gonio_Left_Stage_2" />
    <child
      link="Gonio_Left_Chuck" />
    <axis
      xyz="0 0 0" />
  </joint>
  <link
    name="Gonio_Left_Part_Base">
    <inertial>
      <origin
        xyz="-0.000517748695069098 0.00473435482735091 0.0506333248330935"
        rpy="0 0 0" />
      <mass
        value="0.11530970264759" />
      <inertia
        ixx="2.48390077396092E-05"
        ixy="-8.88685892494099E-09"
        ixz="-3.69124299391052E-08"
        iyy="3.71154973701587E-05"
        iyz="-3.86161448630447E-07"
        izz="3.3978117134478E-05" />
    </inertial>
    <visual>
      <origin
        xyz="0 0 0"
        rpy="0 0 0" />
      <geometry>
        <mesh
          filename="package://meshes/Gonio_Left_Part_Base.STL" />
      </geometry>
      <material
        name="">
        <color
          rgba="0.752941176470588 0.752941176470588 0.752941176470588 1" />
      </material>
    </visual>
    <collision>
      <origin
        xyz="0 0 0"
        rpy="0 0 0" />
      <geometry>
        <mesh
          filename="package://meshes/Gonio_Left_Part_Base.STL" />
      </geometry>
    </collision>
  </link>
  <joint
    name="Gonio_Left_Part_Base_Joint"
    type="fixed">
    <origin
      xyz="0 0 -0.015"
      rpy="0 0 0" />
    <parent
      link="Gonio_Left_Stage_2" />
    <child
      link="Gonio_Left_Part_Base" />
    <axis
      xyz="0 0 0" />
  </joint>
  <link
    name="Smarpod_Station">
    <inertial>
      <origin
        xyz="0.0921880695439858 0.106740010574494 0.186664921950654"
        rpy="0 0 0" />
      <mass
        value="0.782282249809798" />
      <inertia
        ixx="0.00477442216909529"
        ixy="-5.89281059975407E-08"
        ixz="2.3757803100545E-10"
        iyy="0.00354235482448058"
        iyz="2.44320538923824E-08"
        izz="0.00631238764877303" />
    </inertial>
    <visual>
      <origin
        xyz="0 0 0"
        rpy="0 0 0" />
      <geometry>
        <mesh
          filename="package://meshes/Smarpod_Station.STL" />
      </geometry>
      <material
        name="">
        <color
          rgba="0.752941176470588 0.752941176470588 0.752941176470588 1" />
      </material>
    </visual>
    <collision>
      <origin
        xyz="0 0 0"
        rpy="0 0 0" />
      <geometry>
        <mesh
          filename="package://meshes/Smarpod_Station.STL" />
      </geometry>
    </collision>
  </link>
  <joint
    name="Smarpod_Station_Joint"
    type="fixed">
    <origin
      xyz="0.750000000000003 0.31 0"
      rpy="0 0 0" />
    <parent
      link="pm_robot_base_link" />
    <child
      link="Smarpod_Station" />
    <axis
      xyz="0 0 0" />
  </joint>
  <link
    name="Smarpod_Station_Base">
    <inertial>
      <origin
        xyz="0.00218806954398587 0.016740010574494 -0.0260350780485463"
        rpy="0 0 0" />
      <mass
        value="0.782282249809798" />
      <inertia
        ixx="0.00477442216909529"
        ixy="-5.89281059975416E-08"
        ixz="2.3757803100557E-10"
        iyy="0.00354235482448058"
        iyz="2.44320538923822E-08"
        izz="0.00631238764877303" />
    </inertial>
    <visual>
      <origin
        xyz="0 0 0"
        rpy="0 0 0" />
      <geometry>
        <mesh
          filename="package://meshes/Smarpod_Station_Base.STL" />
      </geometry>
      <material
        name="">
        <color
          rgba="0.752941176470588 0.752941176470588 0.752941176470588 1" />
      </material>
    </visual>
    <collision>
      <origin
        xyz="0 0 0"
        rpy="0 0 0" />
      <geometry>
        <mesh
          filename="package://meshes/Smarpod_Station_Base.STL" />
      </geometry>
    </collision>
  </link>
  <joint
    name="Smarpod_Station_Base_Joint"
    type="fixed">
    <origin
      xyz="0.09 0.0899999999999999 0.2126999999992"
      rpy="0 0 0" />
    <parent
      link="Smarpod_Station" />
    <child
      link="Smarpod_Station_Base" />
    <axis
      xyz="0 0 0" />
  </joint>
  <link
    name="housing_vl">
    <inertial>
      <origin
        xyz="0.106855071606918 -0.0365763858981578 0.4055"
        rpy="0 0 0" />
      <mass
        value="15.7556351853533" />
      <inertia
        ixx="0.894316439132711"
        ixy="0.0157593692116881"
        ixz="2.42069805515347E-18"
        iyy="0.894316439132711"
        iyz="-6.87300695142078E-17"
        izz="0.0614975233077981" />
    </inertial>
    <visual>
      <origin
        xyz="0 0 0"
        rpy="0 0 0" />
      <geometry>
        <mesh
          filename="package://meshes/housing_vl.STL" />
      </geometry>
      <material
        name="">
        <color
          rgba="0.792156862745098 0.819607843137255 0.933333333333333 1" />
      </material>
    </visual>
    <collision>
      <origin
        xyz="0 0 0"
        rpy="0 0 0" />
      <geometry>
        <mesh
          filename="package://meshes/housing_vl.STL" />
      </geometry>
    </collision>
  </link>
  <joint
    name="housing_vl_joint"
    type="fixed">
    <origin
      xyz="-0.198284271247462 -0.0548528137423858 0.11"
      rpy="0 0 0" />
    <parent
      link="base_link_Empthy" />
    <child
      link="housing_vl" />
    <axis
      xyz="0 0 0" />
  </joint>
  <link
    name="housing_vr">
    <inertial>
      <origin
        xyz="0.0365763858981576 0.106855071606918 0.4055"
        rpy="0 0 0" />
      <mass
        value="15.7556351853533" />
      <inertia
        ixx="0.894316439132711"
        ixy="-0.0157593692116881"
        ixz="6.15343601176745E-18"
        iyy="0.894316439132711"
        iyz="-7.81512365283829E-17"
        izz="0.0614975233077981" />
    </inertial>
    <visual>
      <origin
        xyz="0 0 0"
        rpy="0 0 0" />
      <geometry>
        <mesh
          filename="package://meshes/housing_vr.STL" />
      </geometry>
      <material
        name="">
        <color
          rgba="0.792156862745098 0.819607843137255 0.933333333333333 1" />
      </material>
    </visual>
    <collision>
      <origin
        xyz="0 0 0"
        rpy="0 0 0" />
      <geometry>
        <mesh
          filename="package://meshes/housing_vr.STL" />
      </geometry>
    </collision>
  </link>
  <joint
    name="housing_vr_joint"
    type="fixed">
    <origin
      xyz="1.25485281374239 -0.198284271247462 0.11"
      rpy="0 0 0" />
    <parent
      link="base_link_Empthy" />
    <child
      link="housing_vr" />
    <axis
      xyz="0 0 0" />
  </joint>
  <link
    name="housing_hr">
    <inertial>
      <origin
        xyz="0.106855071606919 0.0365763858981576 -0.4055"
        rpy="0 0 0" />
      <mass
        value="15.7556351853533" />
      <inertia
        ixx="0.894316439132712"
        ixy="-0.0157593692116881"
        ixz="2.95540433901942E-17"
        iyy="0.894316439132712"
        iyz="-8.38752000857294E-17"
        izz="0.0614975233077981" />
    </inertial>
    <visual>
      <origin
        xyz="0 0 0"
        rpy="0 0 0" />
      <geometry>
        <mesh
          filename="package://meshes/housing_hr.STL" />
      </geometry>
      <material
        name="">
        <color
          rgba="0.792156862745098 0.819607843137255 0.933333333333333 1" />
      </material>
    </visual>
    <collision>
      <origin
        xyz="0 0 0"
        rpy="0 0 0" />
      <geometry>
        <mesh
          filename="package://meshes/housing_hr.STL" />
      </geometry>
    </collision>
  </link>
  <joint
    name="housing_hr_joint"
    type="fixed">
    <origin
      xyz="1.39828427124746 1.25485281374239 0.11"
      rpy="-3.14159265358979 0 3.14159265358979" />
    <parent
      link="base_link_Empthy" />
    <child
      link="housing_hr" />
    <axis
      xyz="0 0 0" />
  </joint>
  <link
    name="housing_hl">
    <inertial>
      <origin
        xyz="-0.0365763858981578 -0.106855071606918 0.4055"
        rpy="0 0 0" />
      <mass
        value="15.7556351853533" />
      <inertia
        ixx="0.894316439132711"
        ixy="-0.0157593692116881"
        ixz="-3.6829493799191E-18"
        iyy="0.894316439132711"
        iyz="-1.71652870701721E-16"
        izz="0.0614975233077981" />
    </inertial>
    <visual>
      <origin
        xyz="0 0 0"
        rpy="0 0 0" />
      <geometry>
        <mesh
          filename="package://meshes/housing_hl.STL" />
      </geometry>
      <material
        name="">
        <color
          rgba="0.792156862745098 0.819607843137255 0.933333333333333 1" />
      </material>
    </visual>
    <collision>
      <origin
        xyz="0 0 0"
        rpy="0 0 0" />
      <geometry>
        <mesh
          filename="package://meshes/housing_hl.STL" />
      </geometry>
    </collision>
  </link>
  <joint
    name="housing_hl_joint"
    type="fixed">
    <origin
      xyz="-0.0548528137423857 1.39828427124746 0.11"
      rpy="0 0 0" />
    <parent
      link="base_link_Empthy" />
    <child
      link="housing_hl" />
    <axis
      xyz="0 0 0" />
  </joint>
  <link
    name="housing">
    <inertial>
      <origin
        xyz="0.6 0.6 0.496399367652785"
        rpy="0 0 0" />
      <mass
        value="1546.94483599147" />
      <inertia
        ixx="334.148986426101"
        ixy="-3.45491878512371E-15"
        ixz="1.16692142183202E-14"
        iyy="334.316274376101"
        iyz="-1.59344892133024E-14"
        izz="513.371732356986" />
    </inertial>
    <visual>
      <origin
        xyz="0 0 0"
        rpy="0 0 0" />
      <geometry>
        <mesh
          filename="package://meshes/housing.STL" />
      </geometry>
      <material
        name="">
        <color
          rgba="0.752941176470588 0.752941176470588 0.752941176470588 1" />
      </material>
    </visual>
    <collision>
      <origin
        xyz="0 0 0"
        rpy="0 0 0" />
      <geometry>
        <mesh
          filename="package://meshes/housing.STL" />
      </geometry>
    </collision>
  </link>
  <joint
    name="housing_joint"
    type="fixed">
    <origin
      xyz="0 0 0"
      rpy="0 0 0" />
    <parent
      link="base_link_Empthy" />
    <child
      link="housing" />
    <axis
      xyz="0 0 0" />
  </joint>
</robot>
